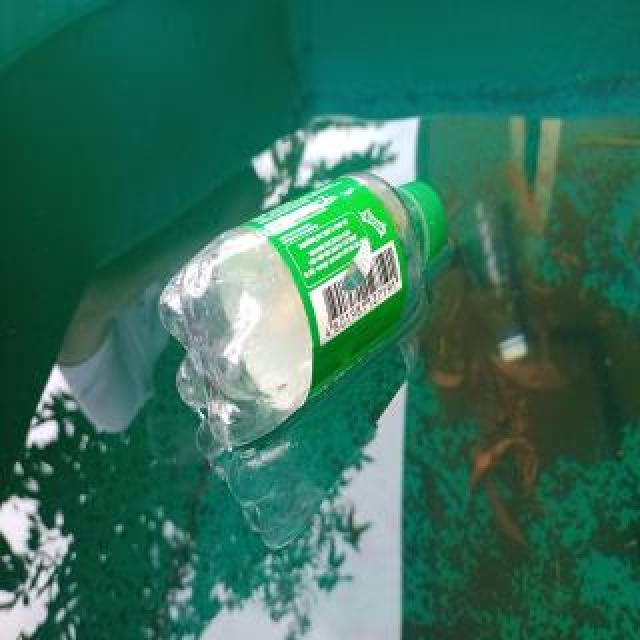Plastic Bottle: (159, 164, 451, 454)
